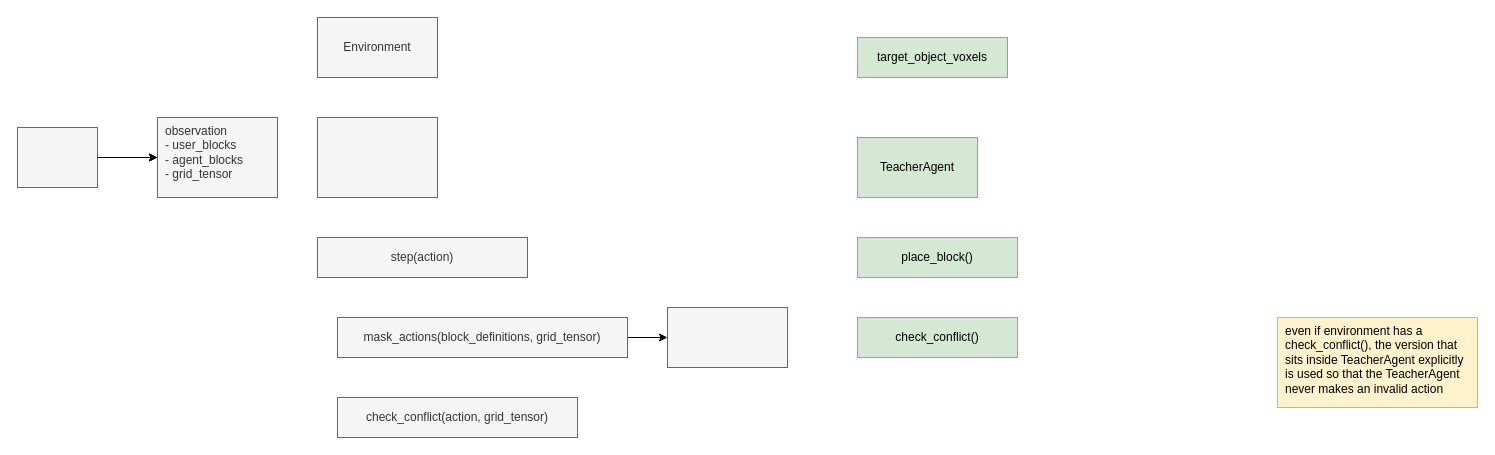
This 1495x455 diagram has some shape labels left out. Each missing label, with the box of its shape:
block_definitions - type - L, W, H - orientation_cells: (316, 116, 438, 198)
grid_tensor: (16, 126, 98, 188)
masked_actions: (666, 306, 788, 368)
